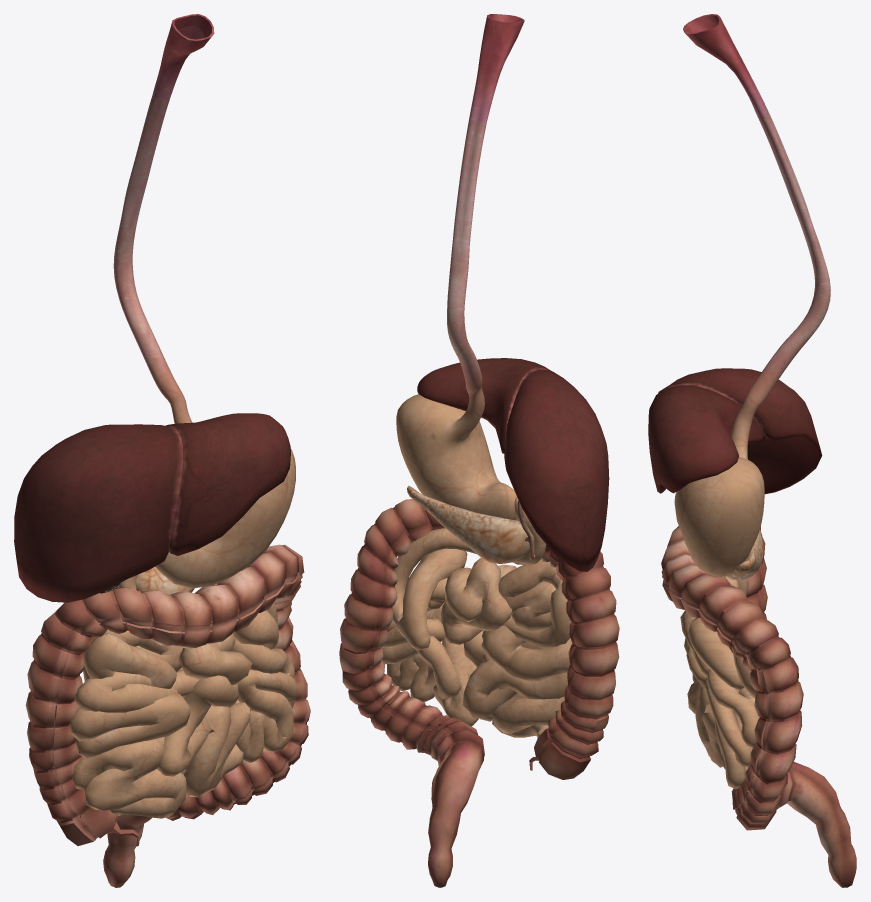
The model's file is digestivesystem.glb.
3 views of the same model, side by side, from view 1: azimuth 30°, elevation 25°; view 2: azimuth 150°, elevation 25°; view 3: azimuth 270°, elevation 25° (orthographic). The views are drawn at different scales.
Visible parts, largest first — view 1: DigestiveSystem001_Digestive_System_0; view 2: DigestiveSystem001_Digestive_System_0; view 3: DigestiveSystem001_Digestive_System_0.
Part boxes in pixels (x1,y1,x2,y2): DigestiveSystem001_Digestive_System_0: (14,14,310,887); DigestiveSystem001_Digestive_System_0: (339,14,619,887); DigestiveSystem001_Digestive_System_0: (648,14,856,887).
Bounding box in the file's own units: 22.71 × 67.72 × 14.76.
1 material, 1 textured.
